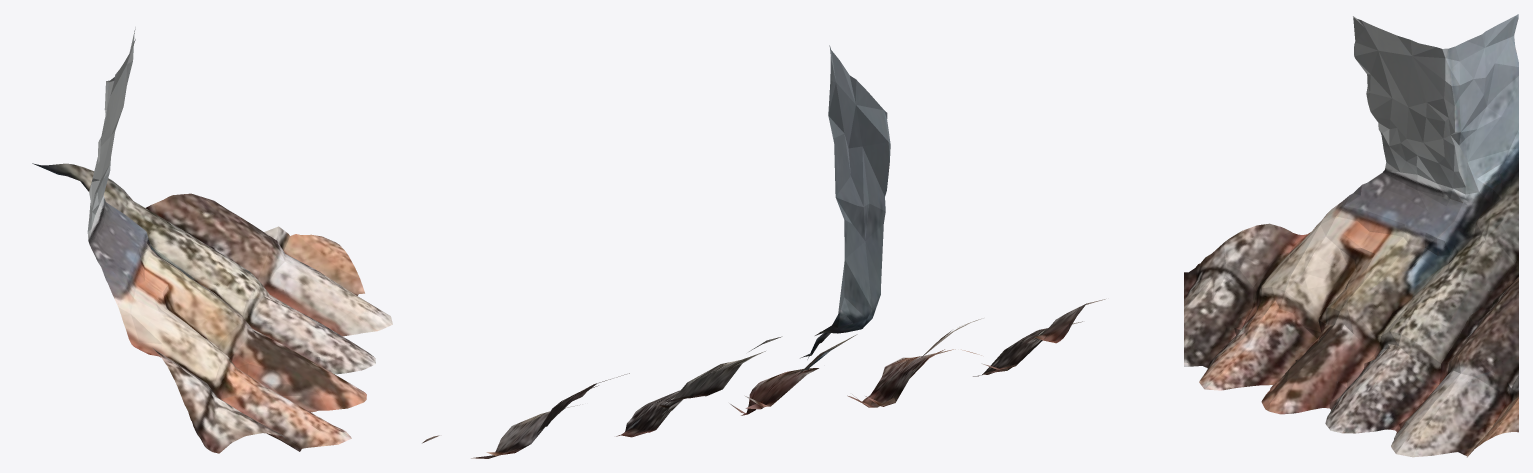
3 views of the same model, side by side, from view 1: azimuth 30°, elevation 25°; view 2: azimuth 150°, elevation 25°; view 3: azimuth 270°, elevation 25° (orthographic). The views are drawn at different scales.
Size of the model in its own units: 0.8374 by 0.8374 by 0.8373.
3 materials, 3 textured.
